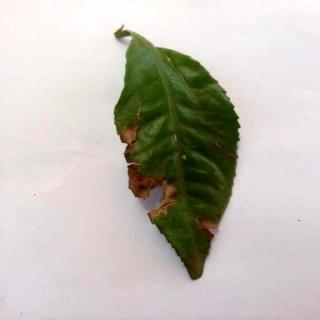Algal Leaf: (114, 27, 241, 284)
